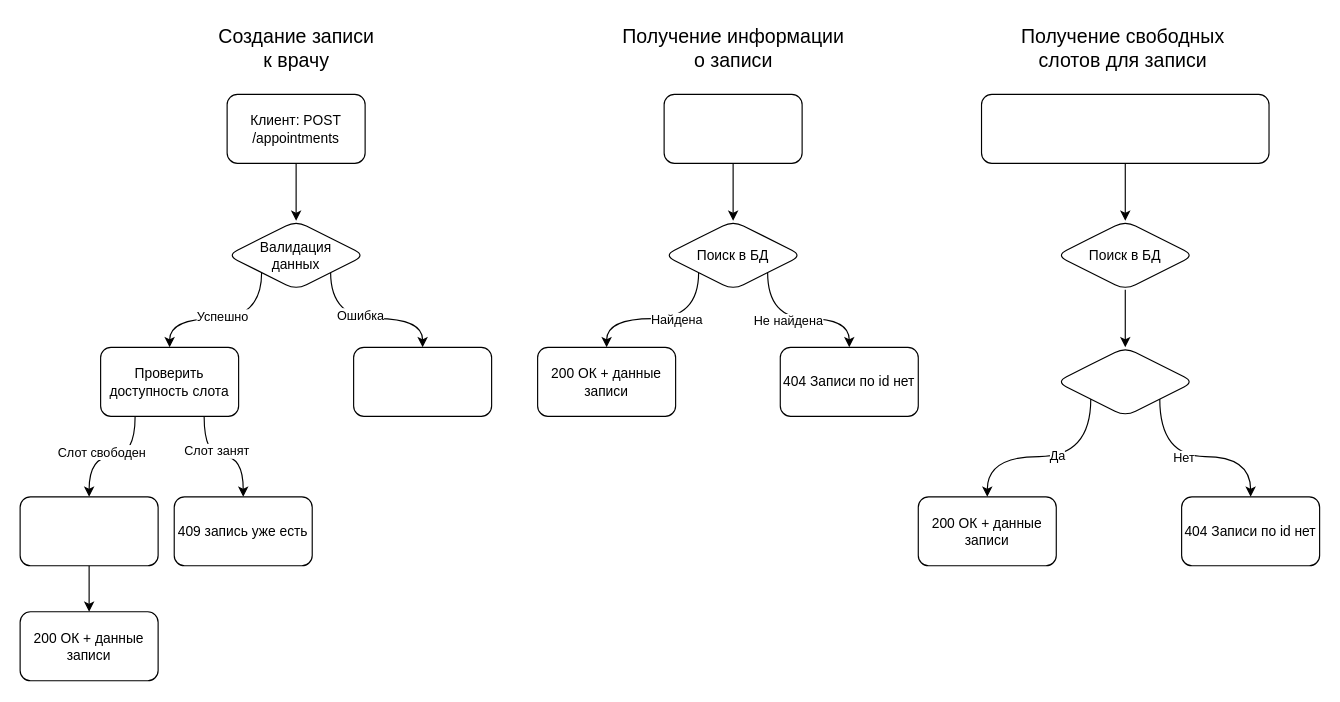
Image size: 1340x702. Some labels were removed from this diagram. Each missing label, with the centre of its shape:
"422 ошибка валидации" belongs at pixel 422 381.
"Клиент:GET /appointments/available/{doctor_id}/{date}" belongs at pixel 1124 128.
"Клиент:GET /appointments/{id}" belongs at pixel 732 128.
"Свободные слоты" belongs at pixel 1124 381.
"Создать запись в БД" belongs at pixel 88 531.
